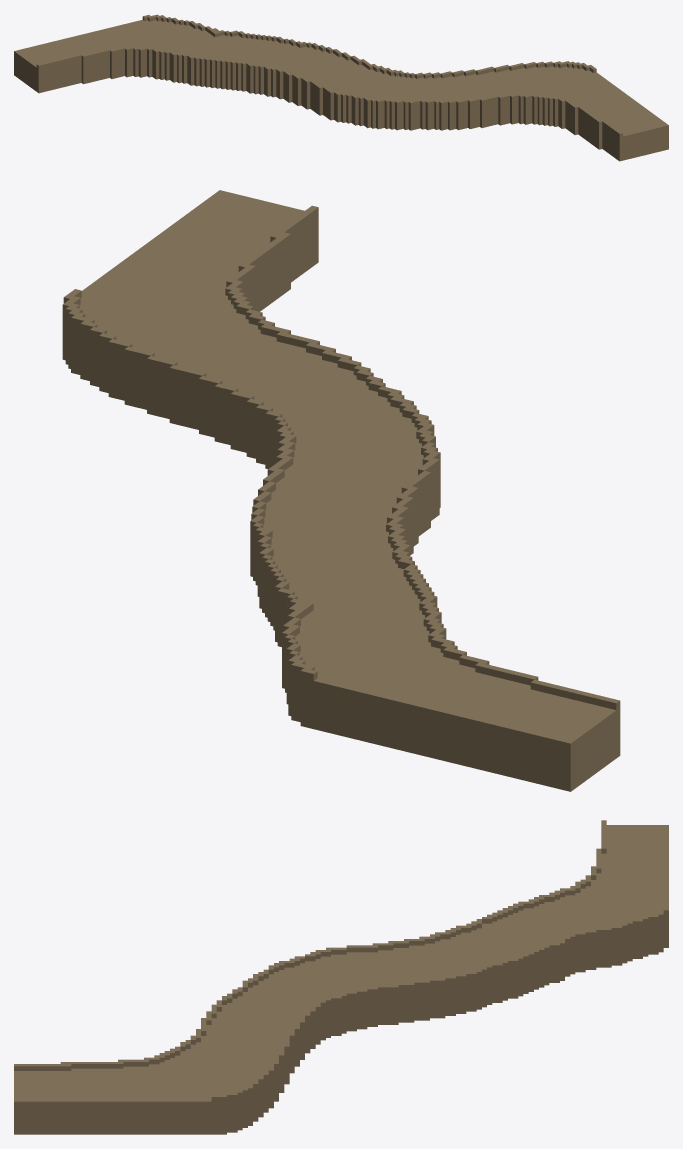
The model's file is CorridorCorner01-2.obj.
3 renders of one model, top to bottom at view 1: azimuth 30°, elevation 25°; view 2: azimuth 150°, elevation 25°; view 3: azimuth 270°, elevation 25°, orthographic. The views are drawn at different scales.
Bounding box in the file's own units: 12.6 × 0.8 × 12.6.
Materials: 1 (1 with a texture image).
